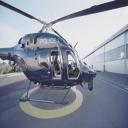helicopter: (1, 4, 103, 111)
